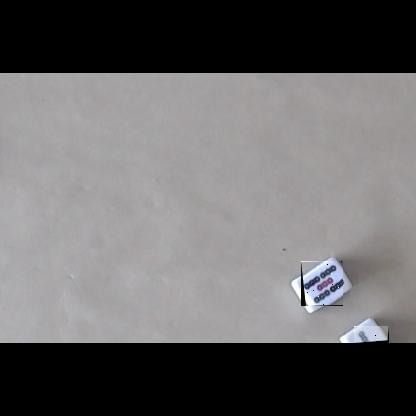3s: (354, 326, 389, 343)
5s: (301, 261, 343, 306)
